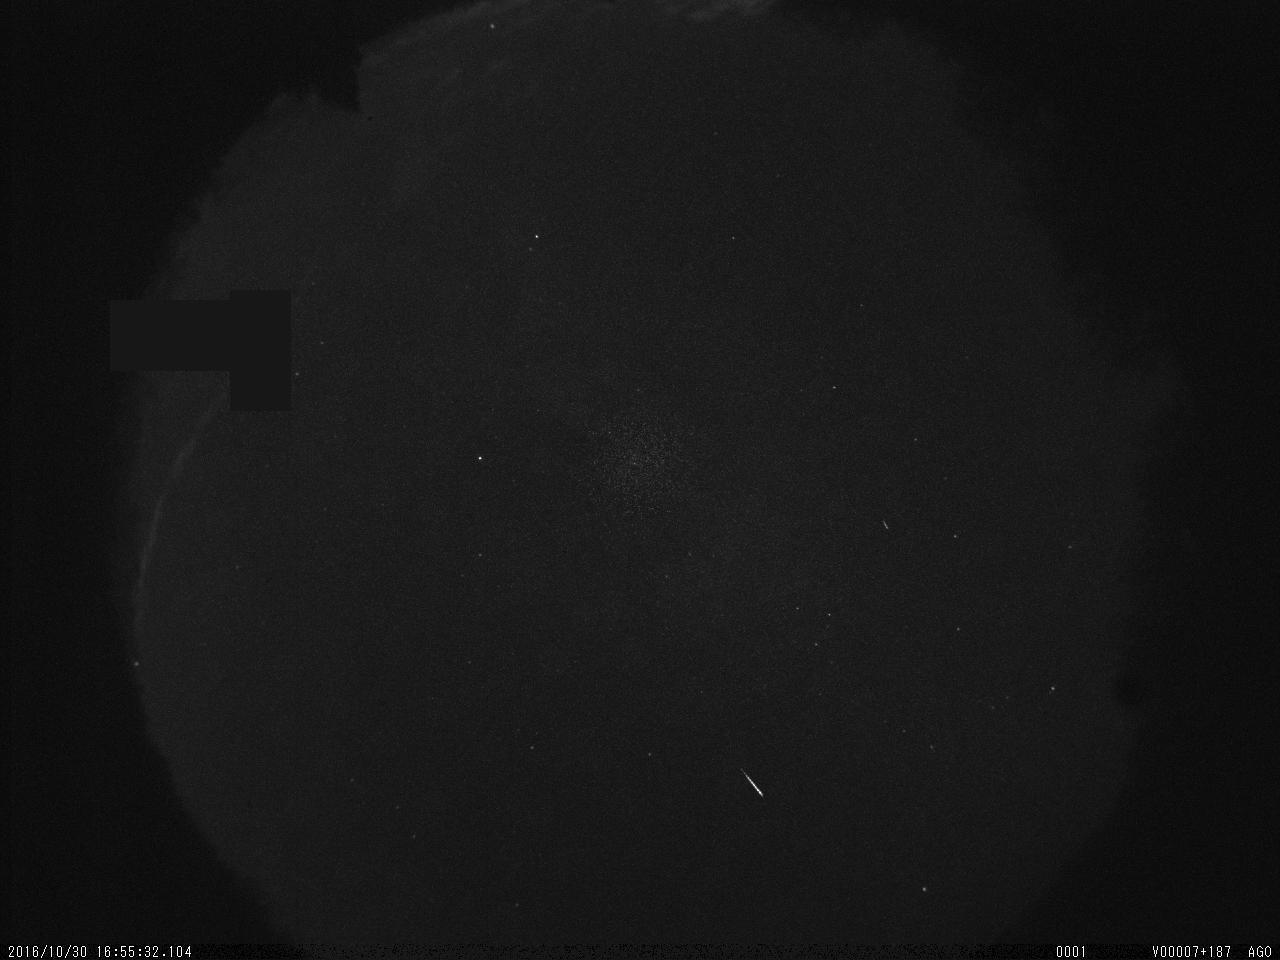meteor: (724, 759, 782, 816)
